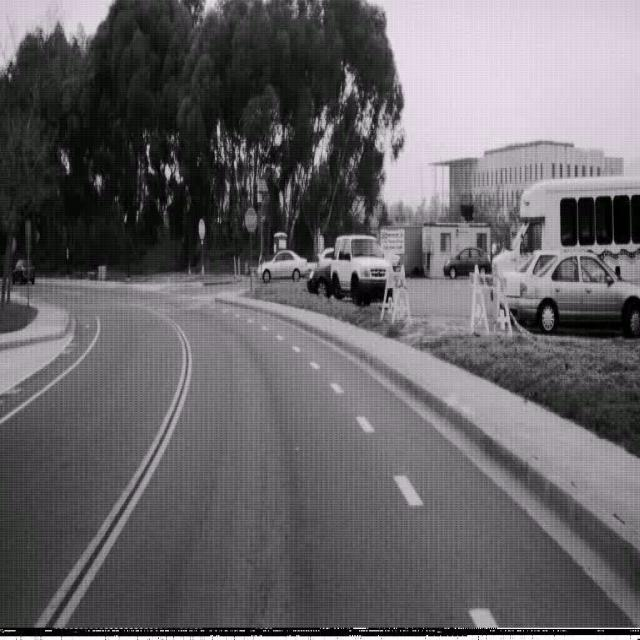stop: (244, 206, 257, 232), (198, 218, 205, 240)
